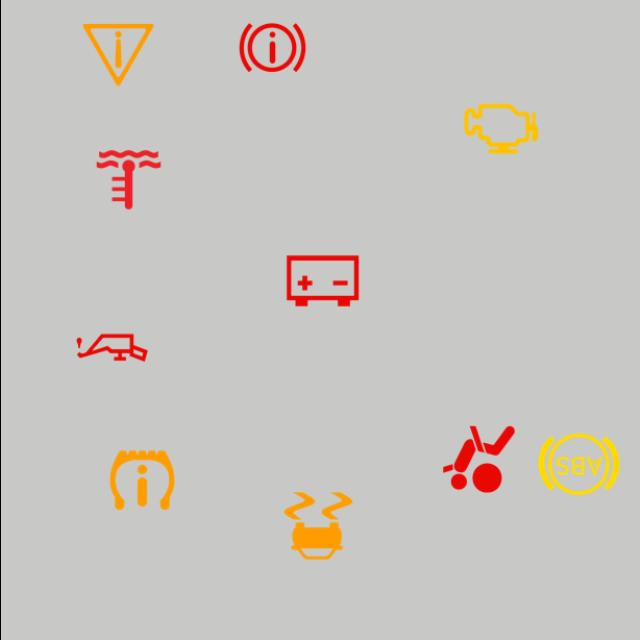Anti Lock Braking System: (534, 420, 622, 509)
Braking System Issue: (228, 3, 316, 92)
Charging System Issue: (278, 237, 366, 325)
Check Engine: (456, 84, 544, 172)
Electronic Stability Problem -ESP-: (274, 482, 362, 570)
Engine Overheating Warning Light: (84, 136, 172, 224)
Low Engine Oil Warning Light: (67, 304, 155, 392)
Low Tire Pressure Warning Light: (97, 436, 185, 524)
Master warning light: (74, 10, 162, 99)
SRS-Airbag: (434, 415, 522, 503)
